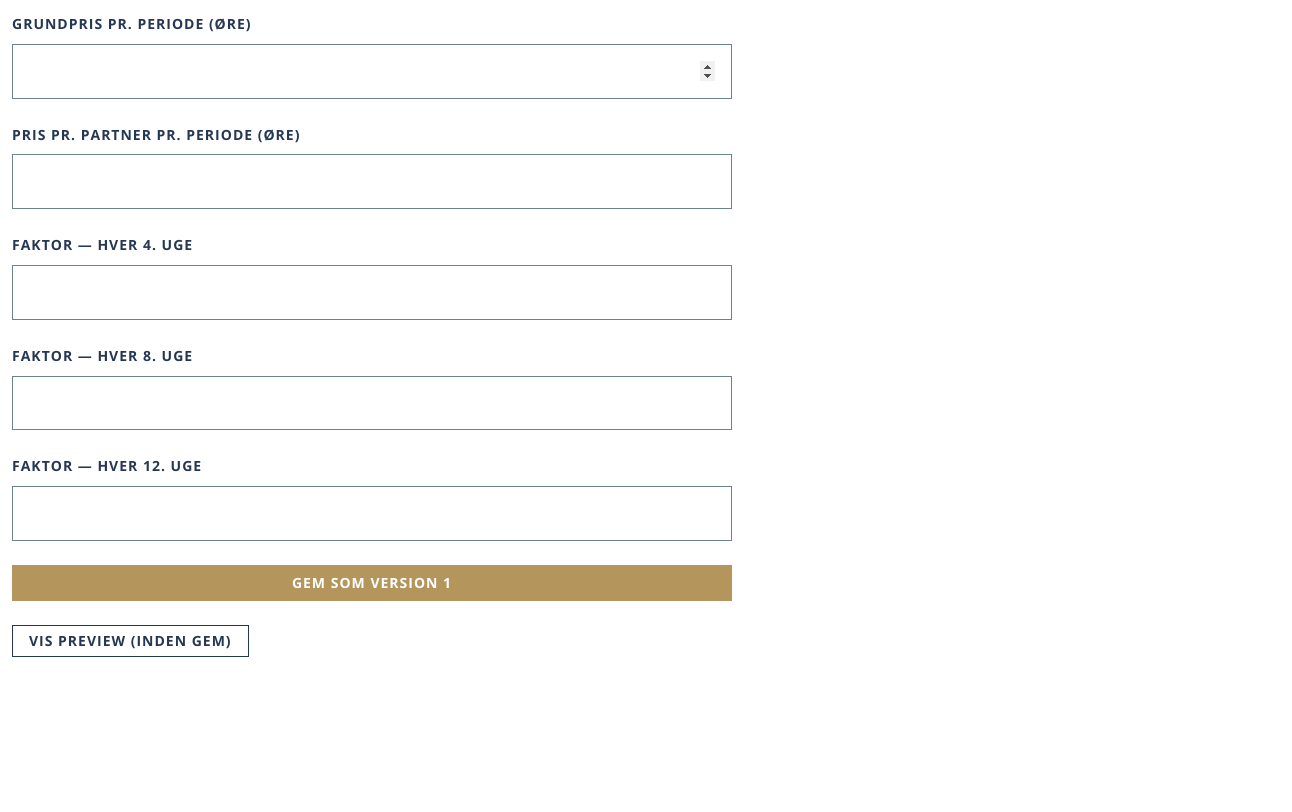
Test case: PricingRuleForm — preview inden gem (ADR 0017-mønstret) › gyldige værdier previewer 2-3 partnere × 4/8/12 uger — seks regnestykker
Type "100" into the number field labelled "Grundpris pr. periode (øre)" at (372, 71), box [12,44,732,99]
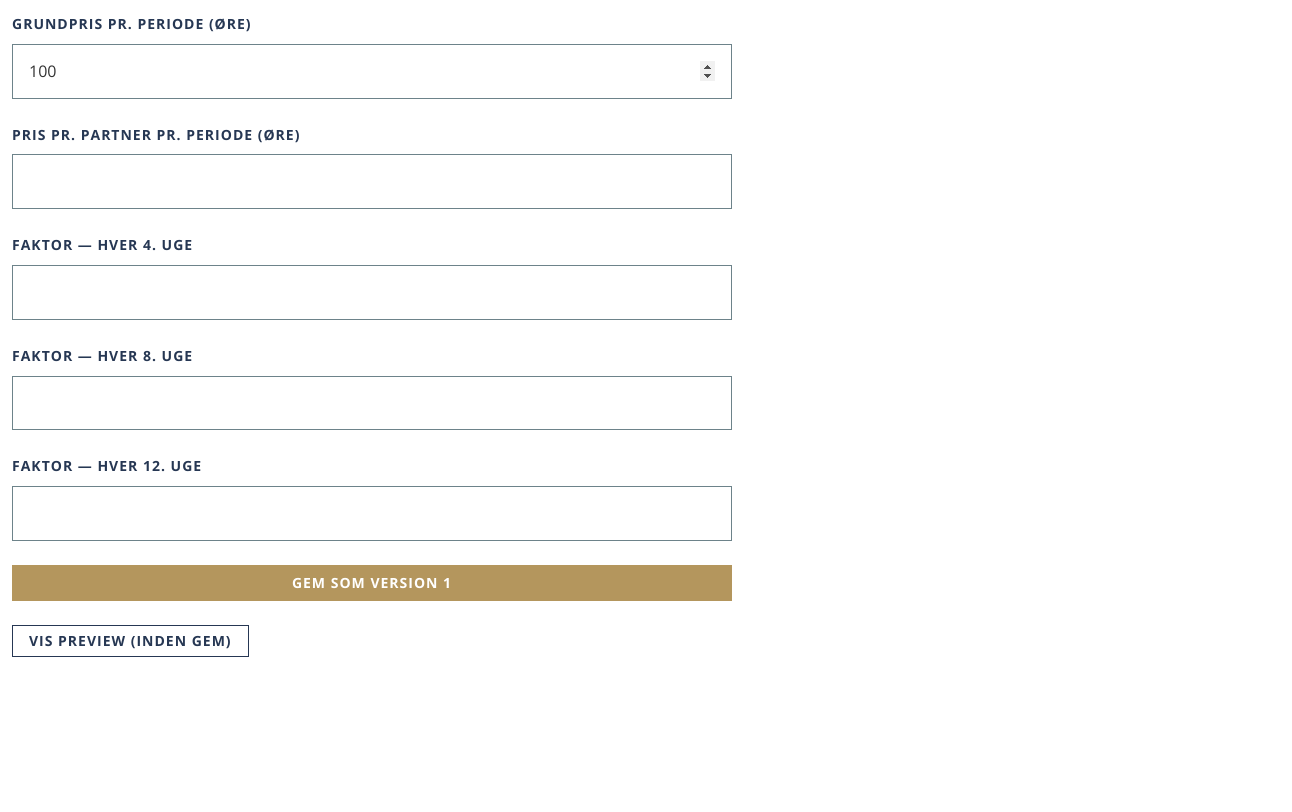
Type "10" into the number field labelled "Pris pr. partner pr. periode (øre)" at (372, 182), box [12,154,732,209]
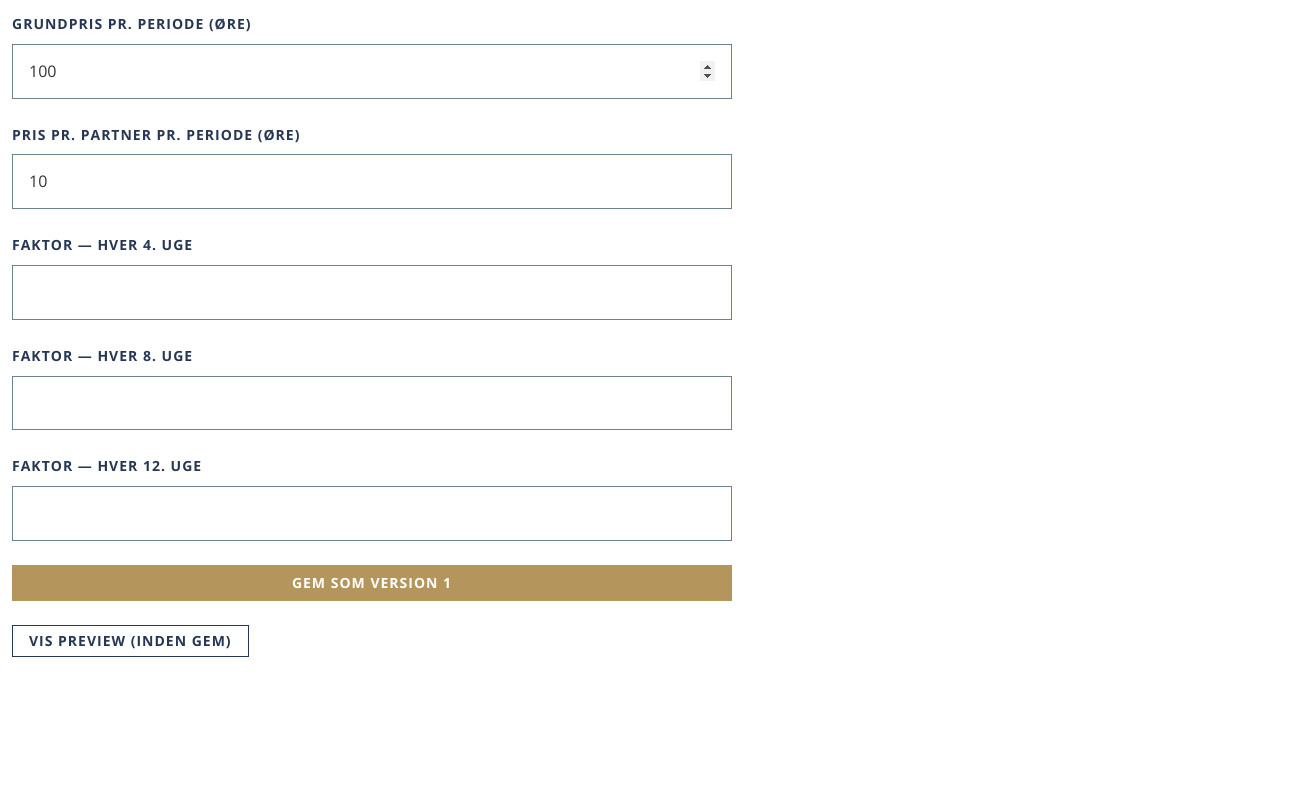
Type "1" into the number field labelled "Faktor — hver 4. uge" at (372, 292), box [12,265,732,320]
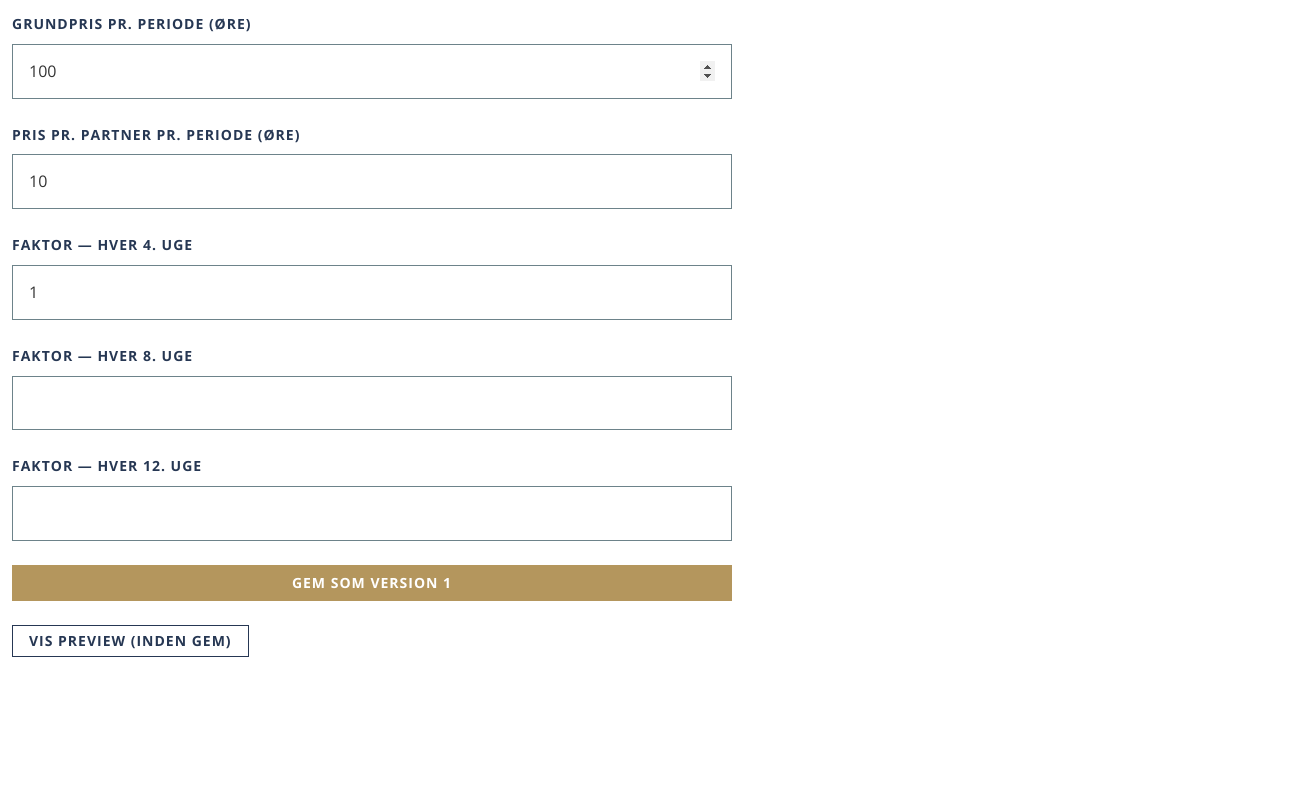
Type "0.5" into the number field labelled "Faktor — hver 8. uge" at (372, 403), box [12,376,732,430]
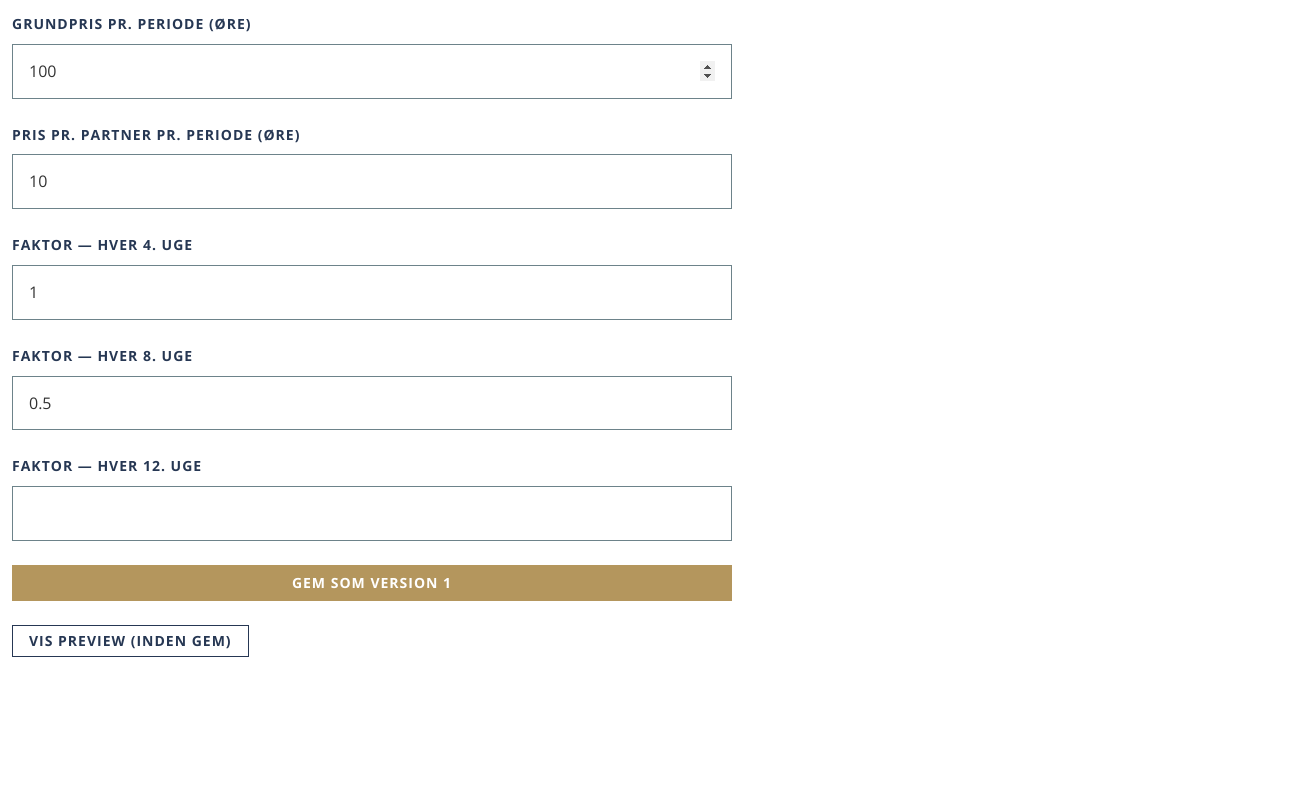
Type "0.25" into the number field labelled "Faktor — hver 12. uge" at (372, 514), box [12,486,732,541]
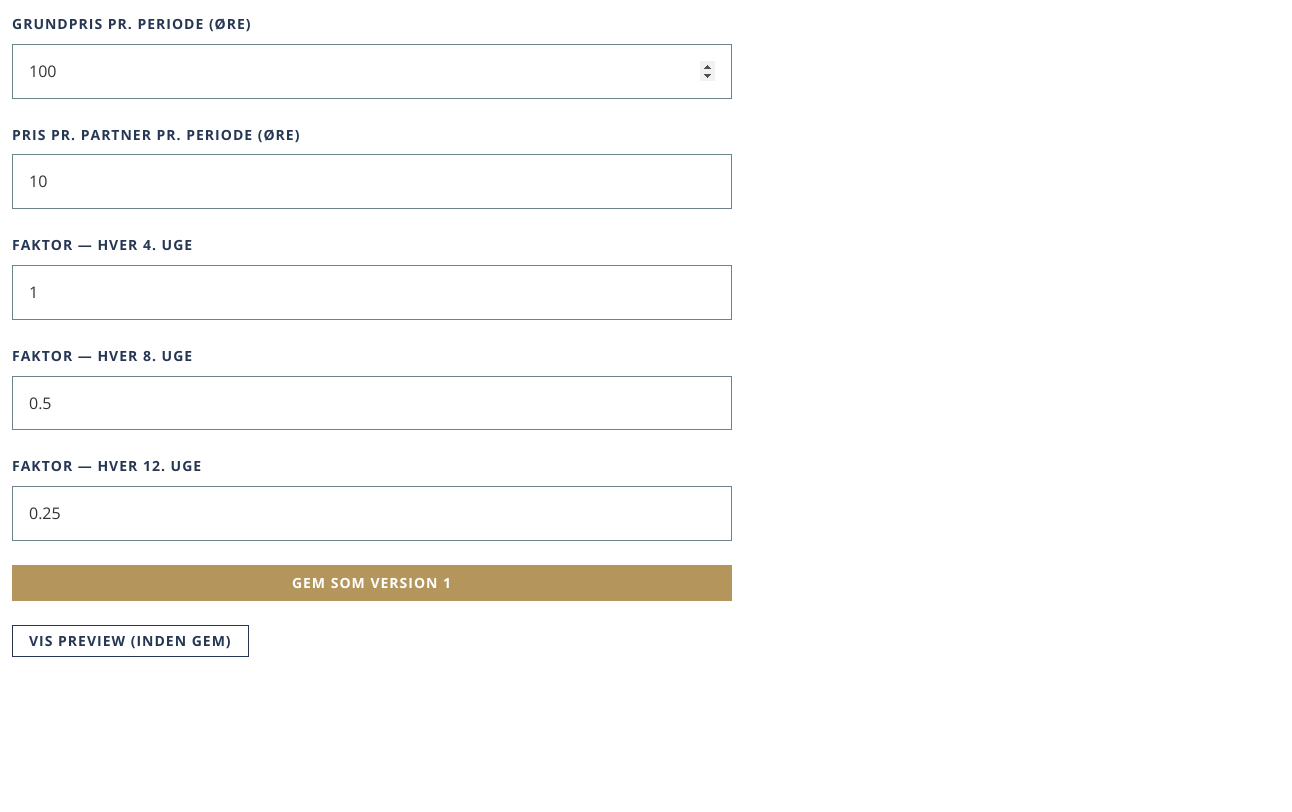
Click the button "Vis preview (inden gem)" at (130, 641), box [12,625,249,657]
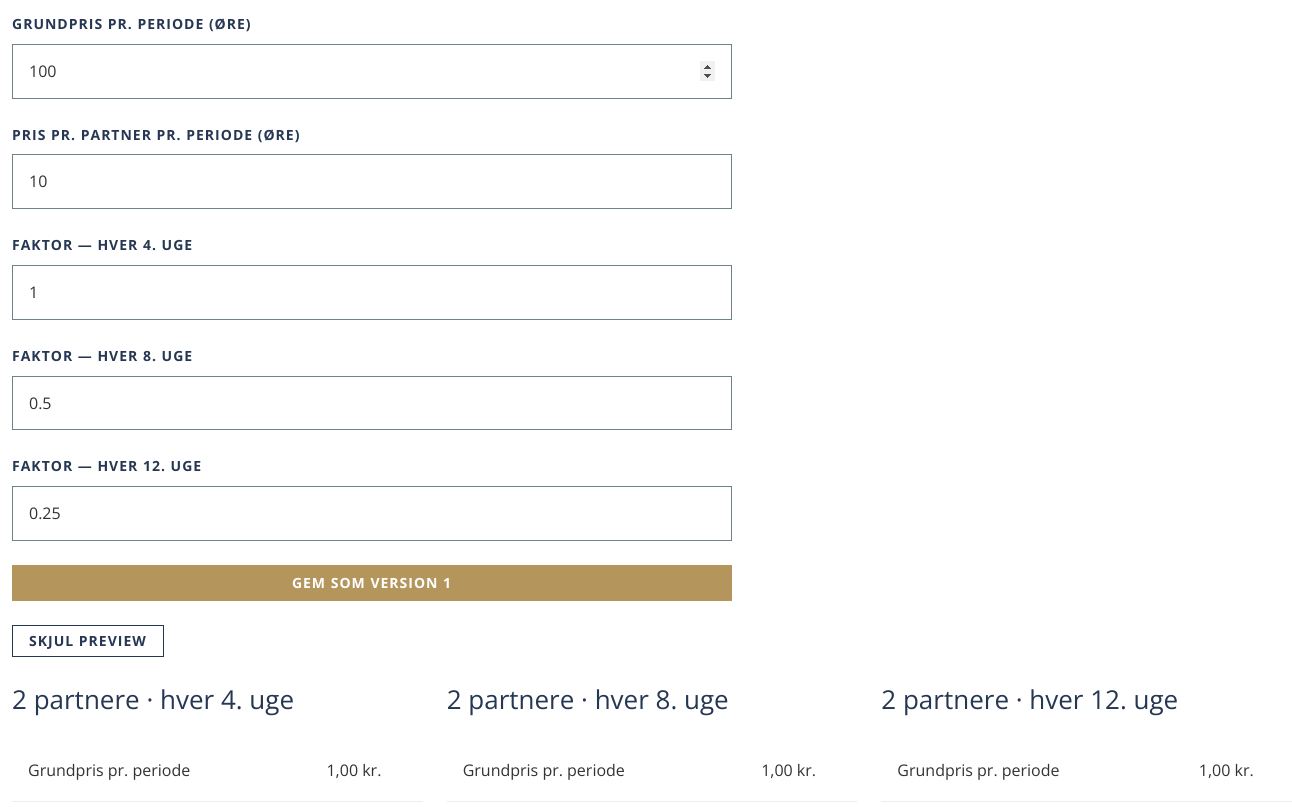
Check: the number of tables with class "table" is 6
